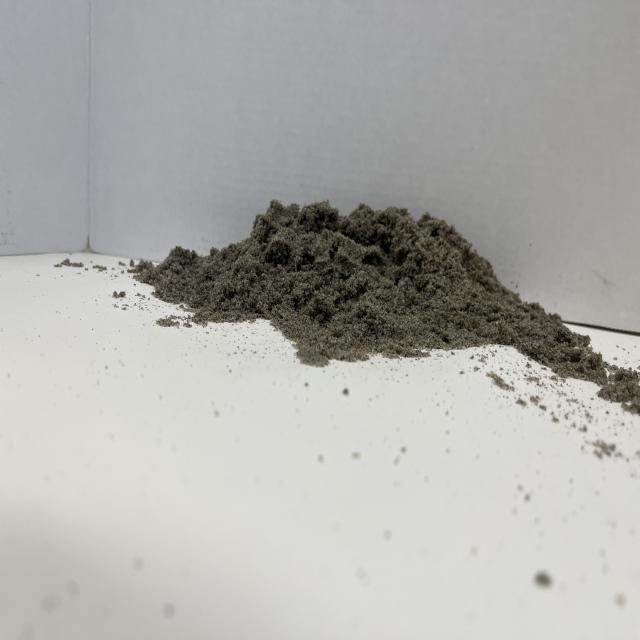sand: (135, 182, 568, 386)
